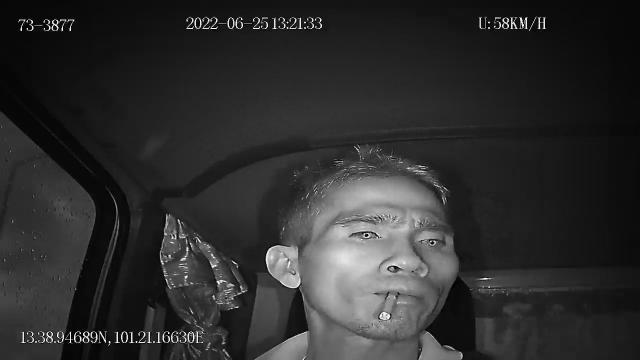SafeDriving: (342, 221, 389, 247), (412, 228, 452, 252)
Smoking: (378, 290, 398, 320)
